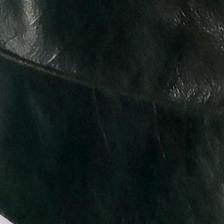healthy: (3, 0, 224, 188)
